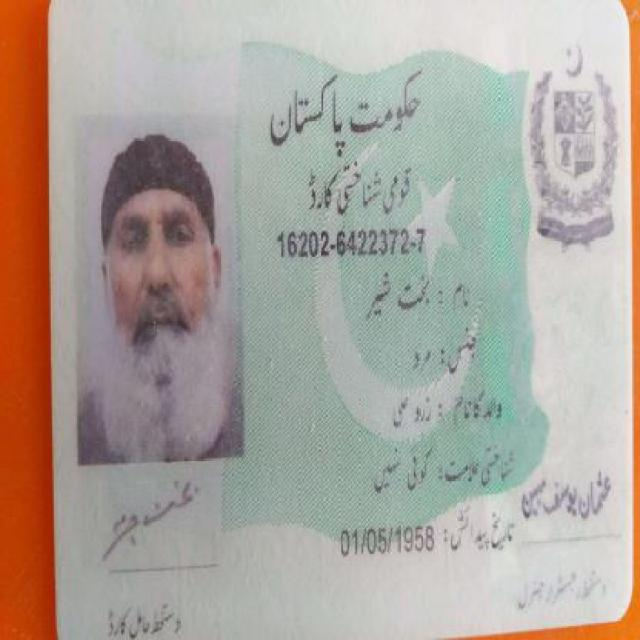Front: (35, 3, 634, 623)
